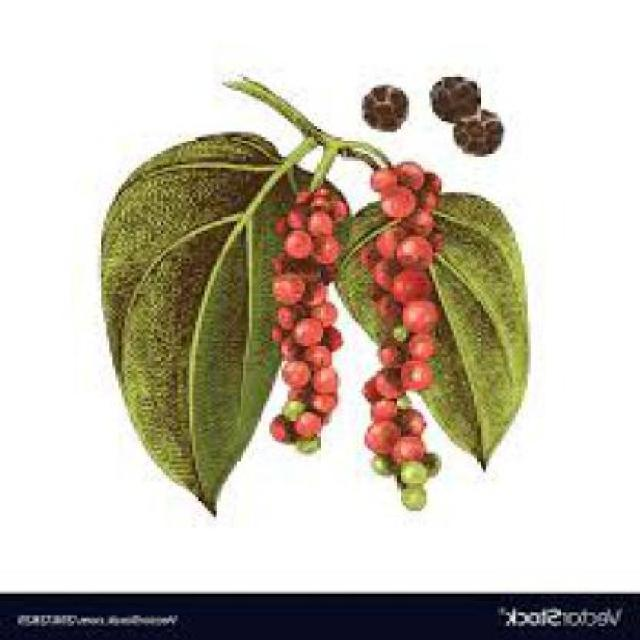RIPE: (365, 163, 456, 506), (268, 188, 345, 454)
